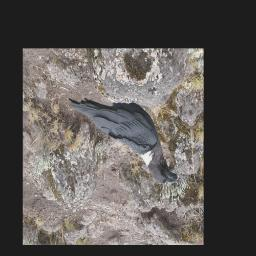Crow: (66, 95, 179, 184)
